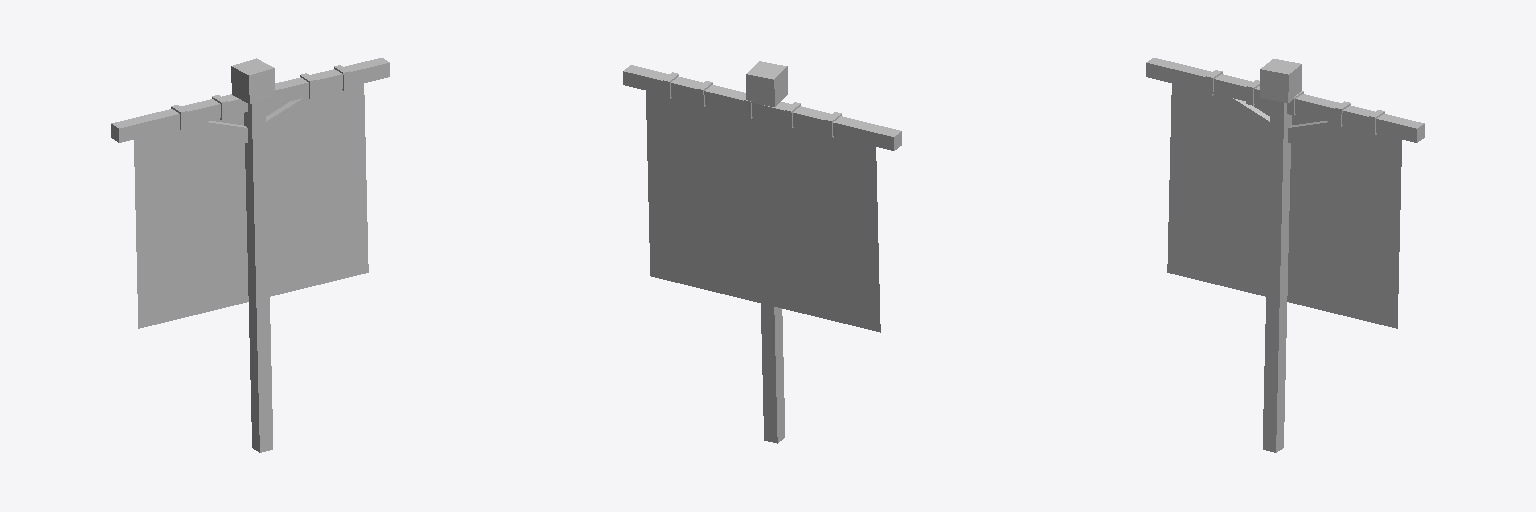
The model's file is eye_banner_3.obj.
3 renders of one model, left to right at view 1: azimuth 30°, elevation 25°; view 2: azimuth 150°, elevation 25°; view 3: azimuth 330°, elevation 25°, orthographic.
Visible parts, largest first — view 1: cube; view 2: cube; view 3: cube.
Boxes of the visible parts, x1=… form: cube: x1=111, y1=58, x2=389, y2=452; cube: x1=623, y1=61, x2=901, y2=443; cube: x1=1146, y1=58, x2=1424, y2=452.
Bounding box in the file's own units: 2.5 × 3.32 × 0.3418.